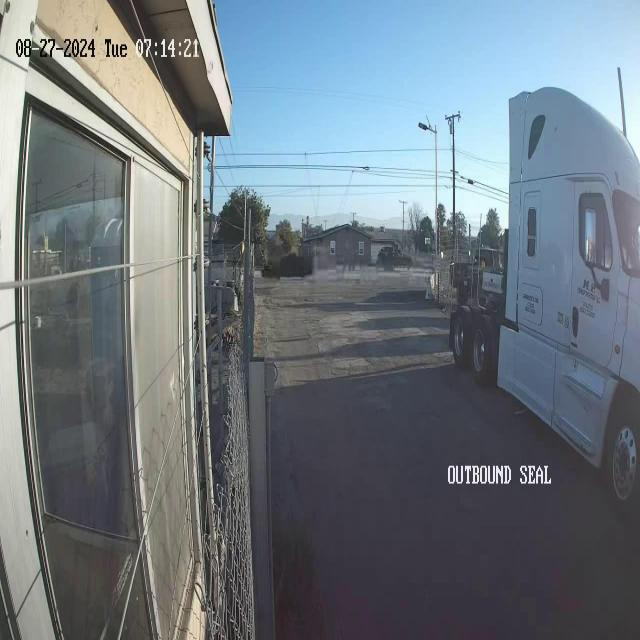TRUCK_IN: (447, 81, 639, 508)
